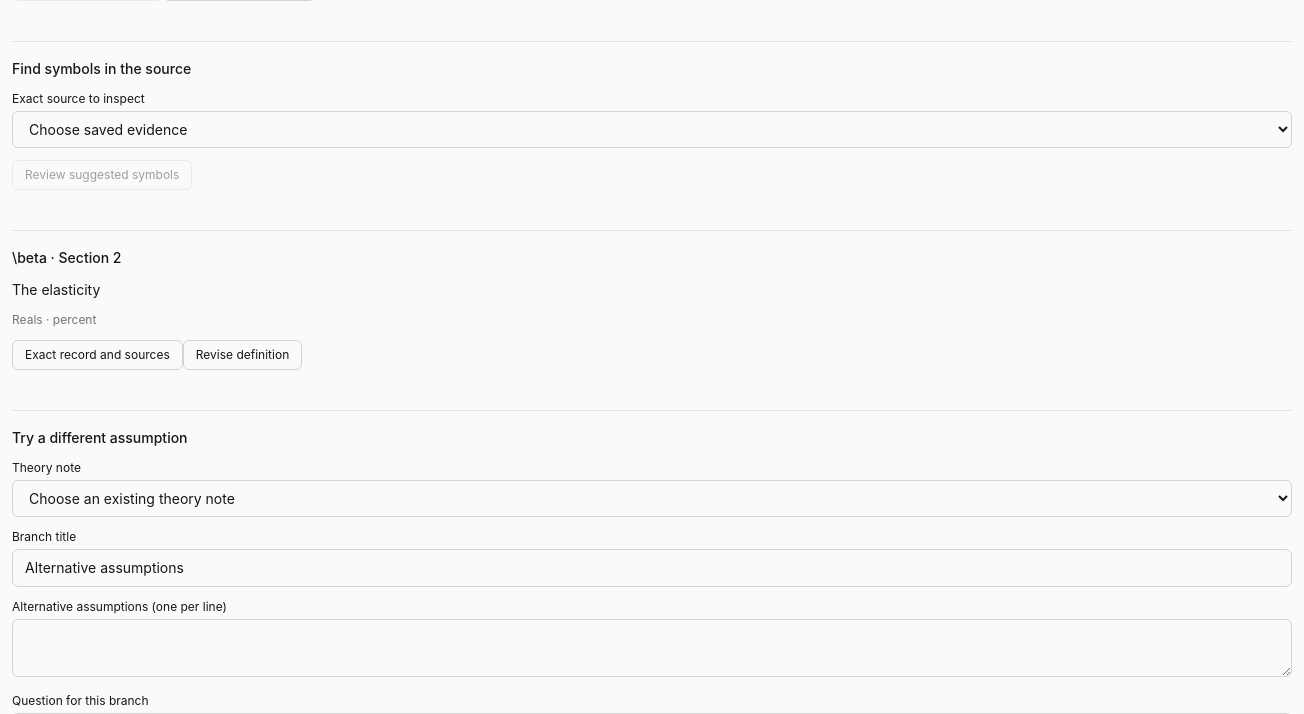
brings the definition form into view when revising a symbol
The image size is (1304, 714).
(page scrolled)
Click the button "Revise definition": (243, 355) 183,340 -> 302,370
(page scrolled)
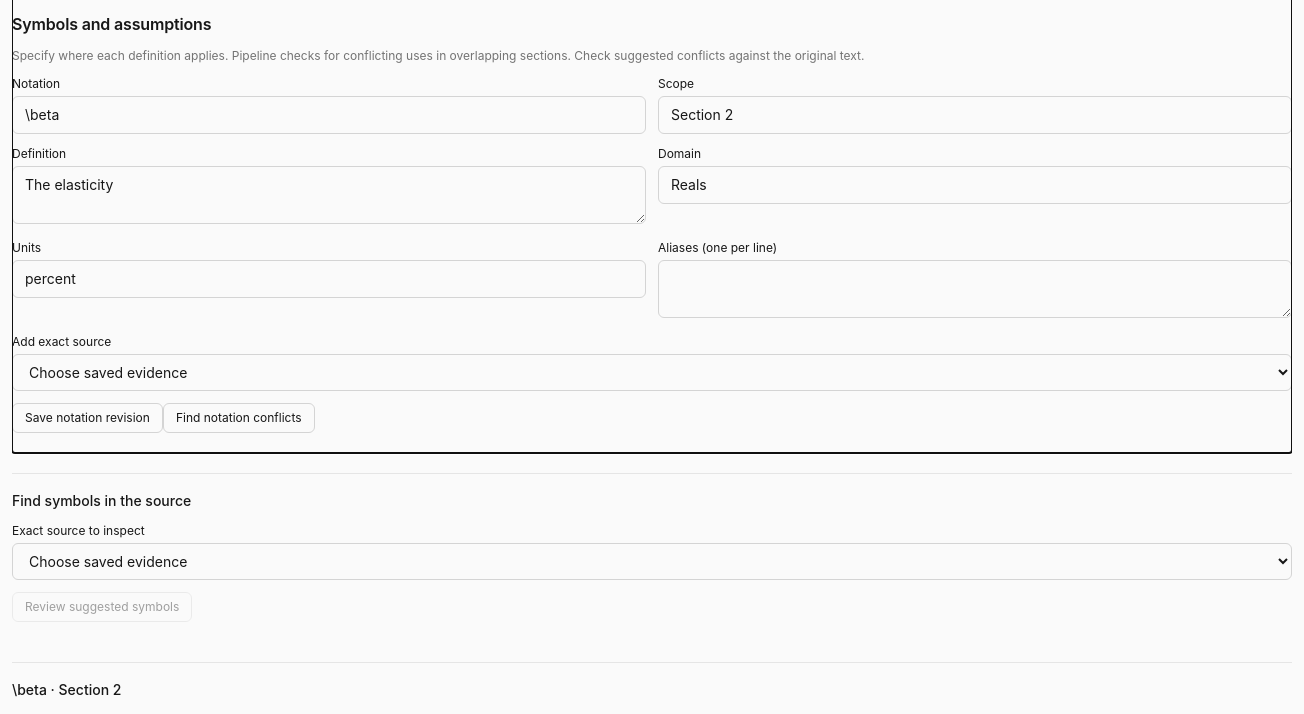
Expected: the field labelled "Notation" holds "\\beta", 12,96 -> 646,134
